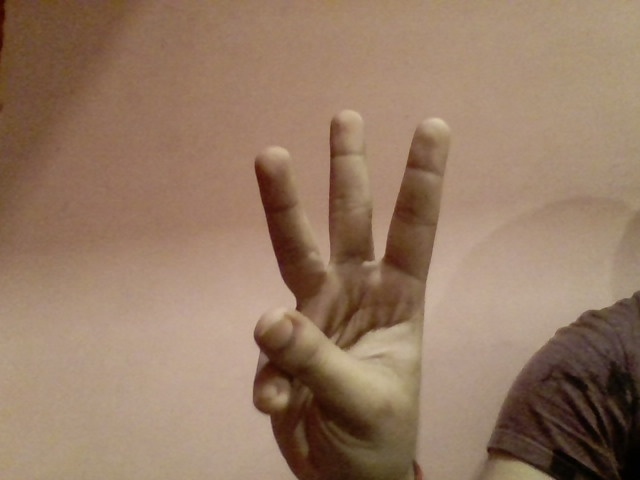w: (226, 97, 460, 465)
